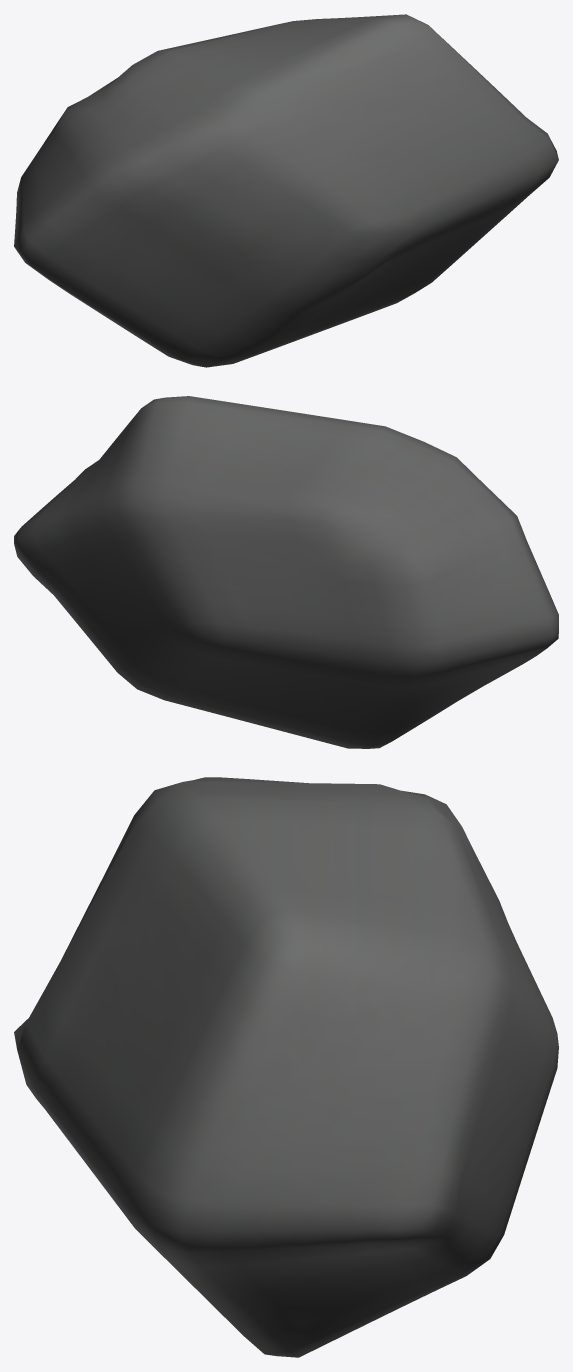
The model's file is Rock.fbx.
3 renders of one model, top to bottom at view 1: azimuth 30°, elevation 25°; view 2: azimuth 150°, elevation 25°; view 3: azimuth 270°, elevation 25°, orthographic. The views are drawn at different scales.
Visible parts, largest first — view 1: pPlatonic1; view 2: pPlatonic1; view 3: pPlatonic1.
Part boxes in pixels (x1,y1,x2,y2): pPlatonic1: (14,14,558,367); pPlatonic1: (14,396,558,748); pPlatonic1: (14,777,558,1357).
Size of the model in its own units: 0.3933 by 0.2079 by 0.2378.
1 material, 1 textured.
